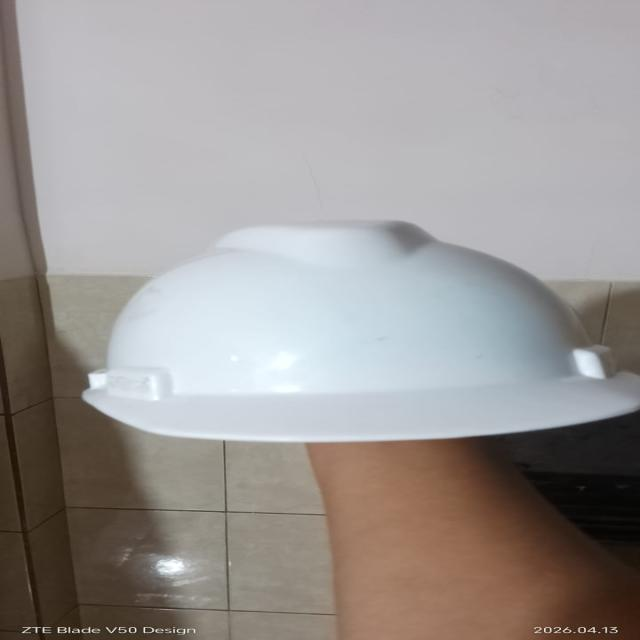casco: (54, 207, 630, 449)
